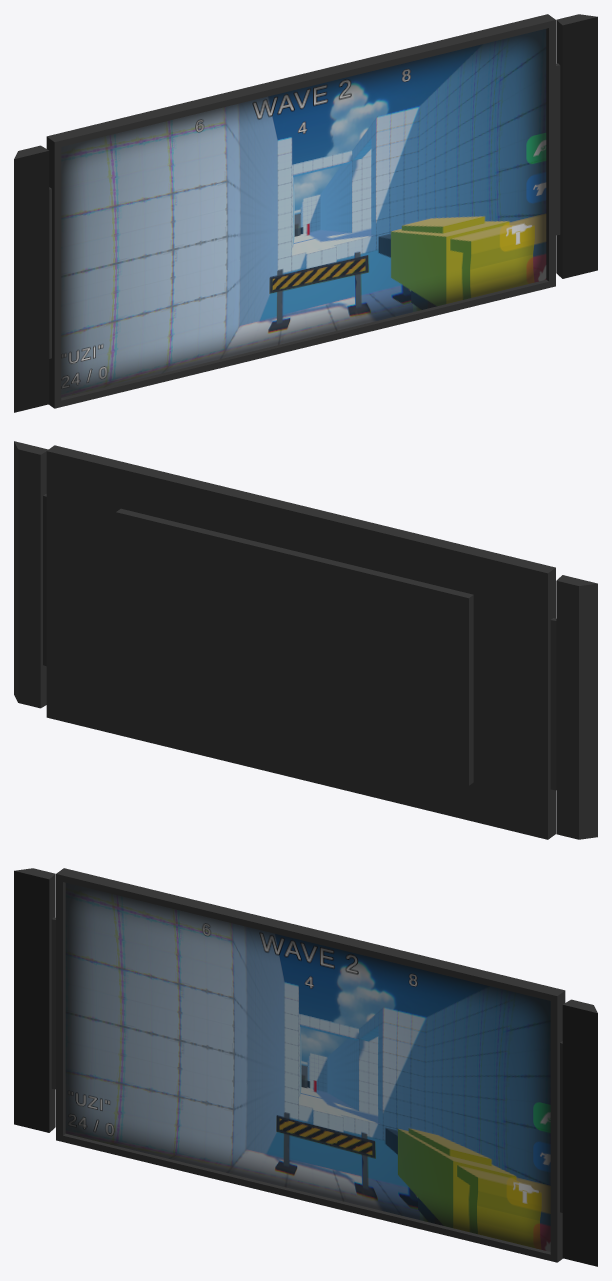
3 views of the same model, one above another, from view 1: azimuth 30°, elevation 25°; view 2: azimuth 150°, elevation 25°; view 3: azimuth 330°, elevation 25° (orthographic).
Parts seen in each view (by area): view 1: TV 5 Mounted; view 2: TV 5 Mounted; view 3: TV 5 Mounted.
Boxes of the visible parts, <box> form: TV 5 Mounted: <box>14,14,597,412</box>; TV 5 Mounted: <box>14,441,597,839</box>; TV 5 Mounted: <box>14,868,597,1266</box>.
Size of the model in its own units: 1.54 by 0.6696 by 0.0615.
Materials: 2 (2 with a texture image).
